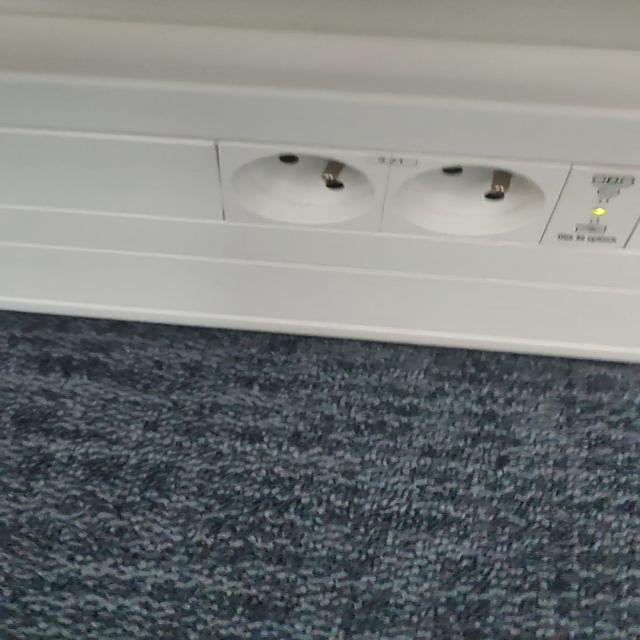house plug: (385, 152, 576, 243), (219, 141, 393, 235)
